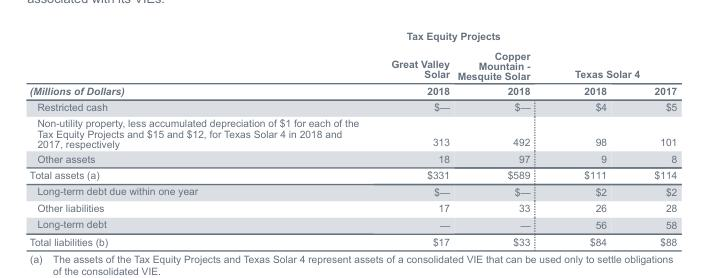table: (28, 29, 676, 246)
table column: (28, 29, 374, 246), (452, 29, 551, 246), (374, 29, 452, 246), (551, 29, 629, 246), (629, 29, 676, 246)
table column header: (28, 29, 676, 98)
table row: (28, 45, 676, 82), (28, 114, 676, 150), (28, 182, 676, 199), (28, 215, 676, 232), (28, 29, 676, 45), (28, 82, 676, 98), (28, 98, 676, 114), (28, 150, 676, 166), (28, 166, 676, 182), (28, 199, 676, 215), (28, 232, 676, 246)
table spanning cell: (28, 29, 374, 98), (551, 29, 676, 82), (452, 45, 551, 98), (374, 45, 452, 98), (374, 29, 551, 45)
